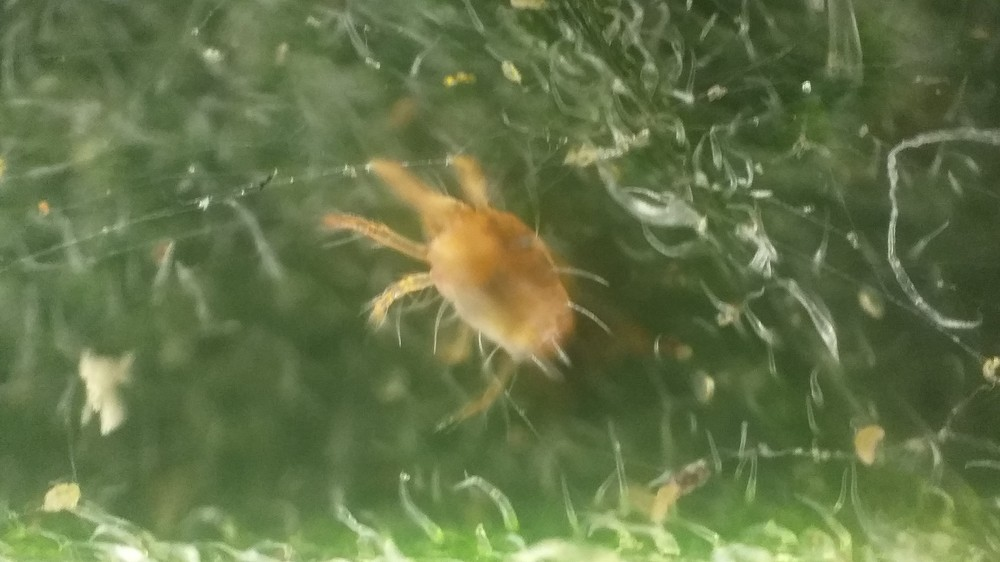Aracnido Rojo: (297, 140, 651, 448)
